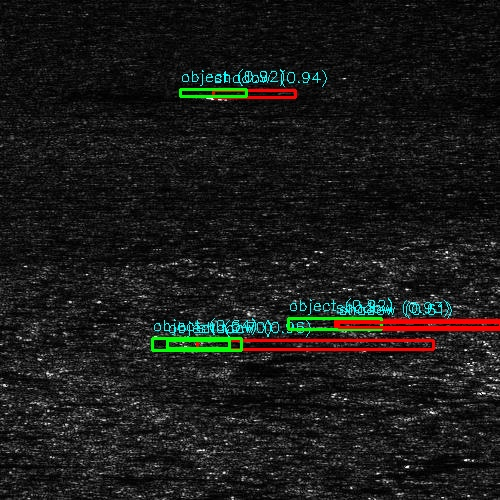rock: (254, 321, 369, 332), (172, 339, 235, 354), (172, 90, 245, 95)
shadow: (204, 339, 413, 354), (312, 321, 475, 332), (0, 458, 74, 469), (209, 90, 312, 95)
